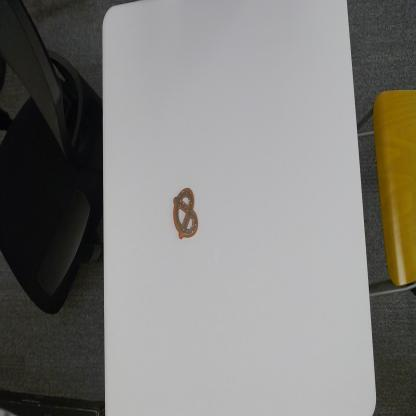Pretzel: (173, 185, 198, 242)
